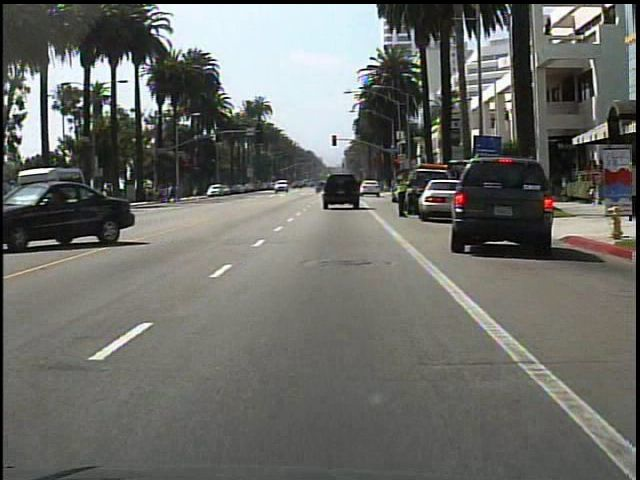person: (392, 168, 412, 219), (635, 160, 636, 225)
